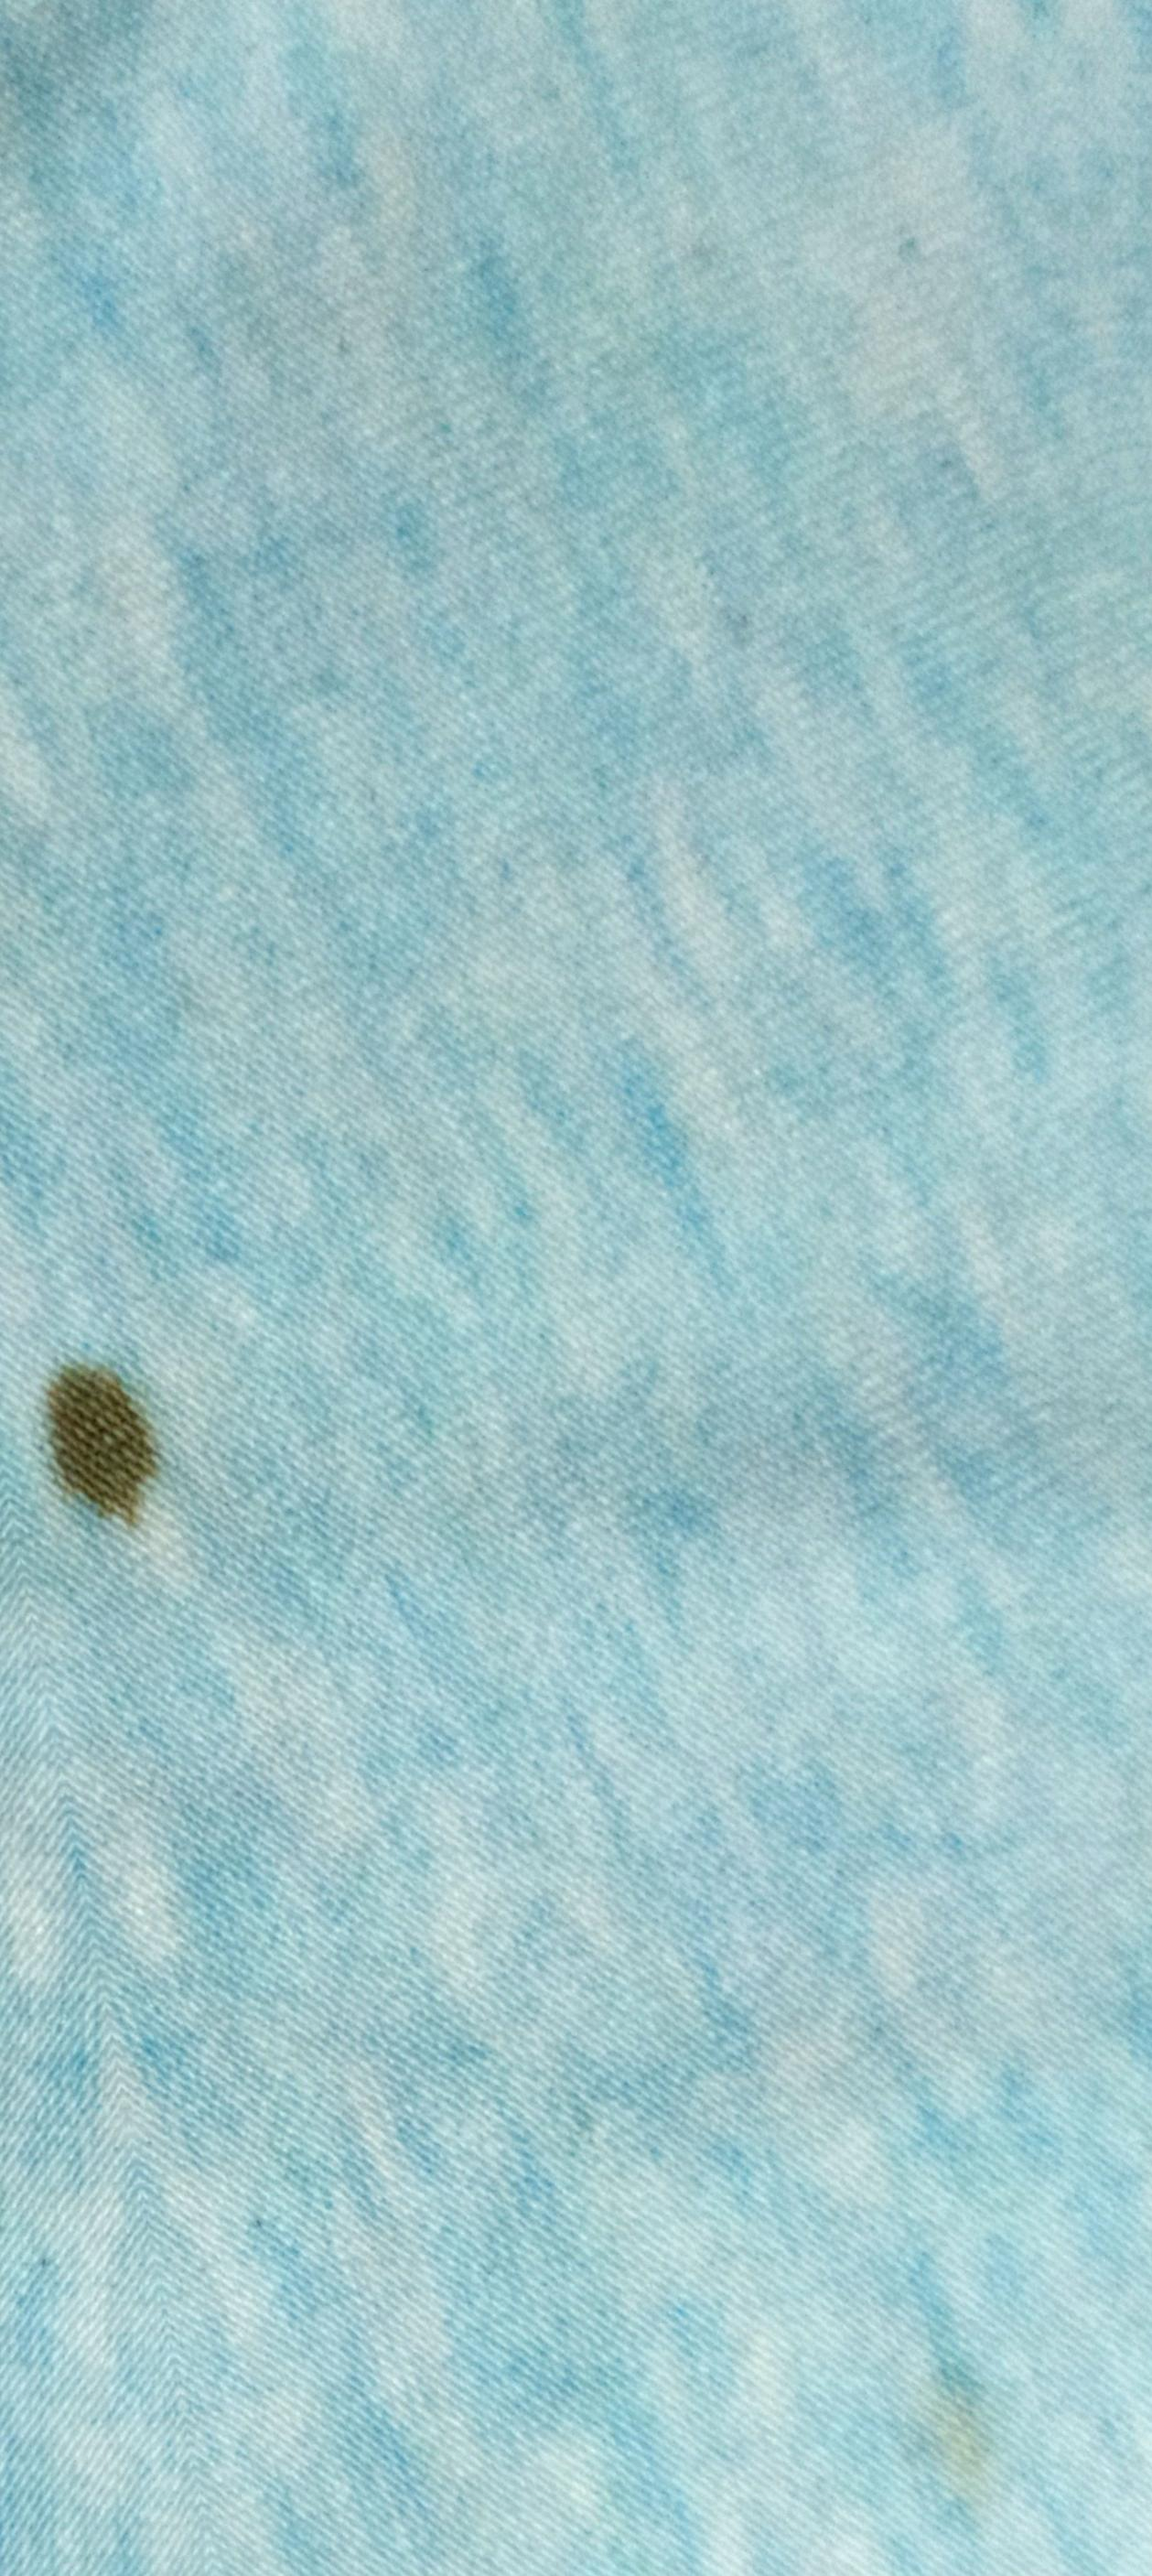stain: (35, 1342, 181, 1572)
